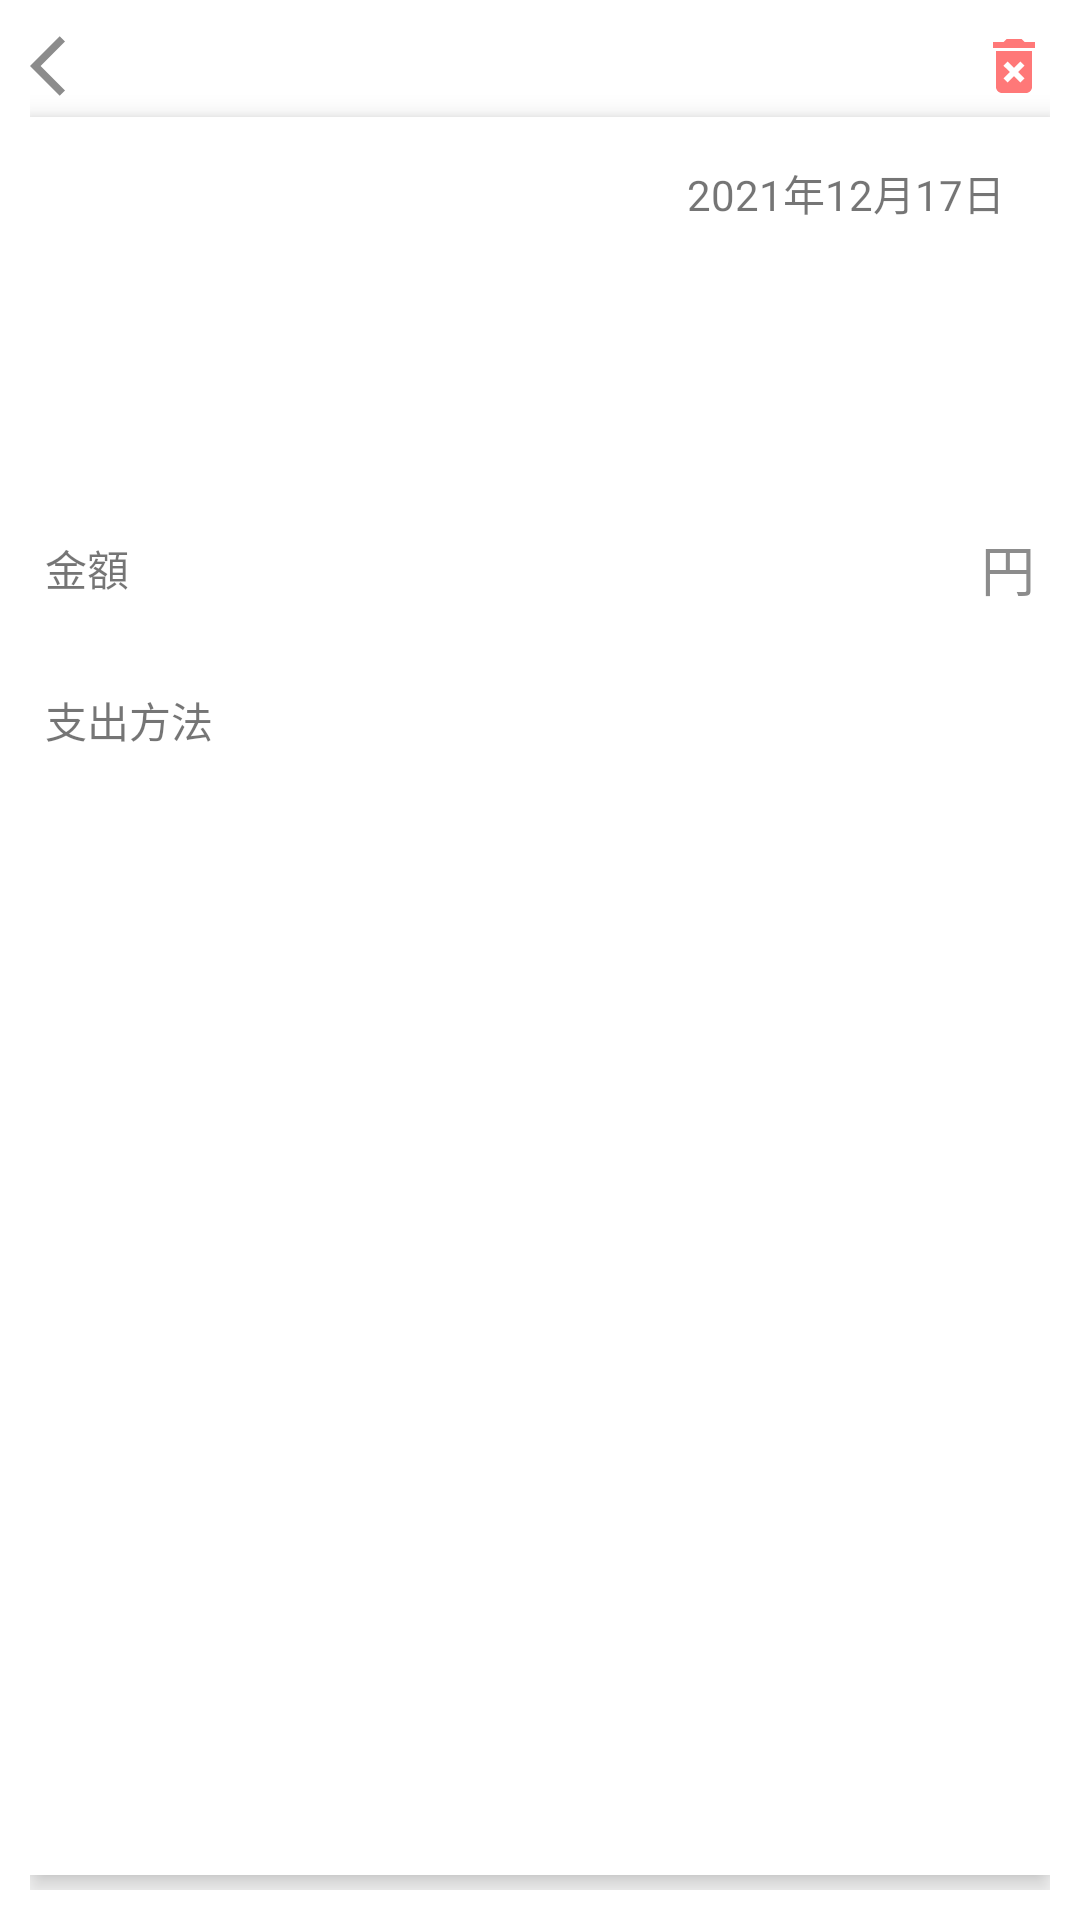

Named icons in this screenshot (1080w x 1920h) and their centers, (x,y):
back: (47,66)
delete: (1014,66)
